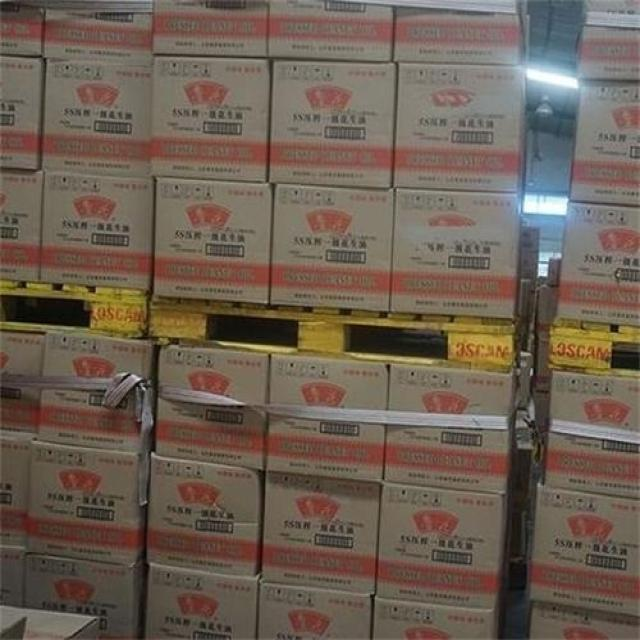box: (384, 365, 517, 497), (390, 189, 522, 319), (392, 64, 526, 192), (378, 483, 511, 610), (269, 60, 397, 191), (270, 183, 397, 314), (24, 441, 151, 567), (268, 355, 390, 482), (150, 57, 271, 184), (527, 483, 640, 616), (261, 472, 384, 594), (155, 179, 273, 304), (36, 332, 157, 453), (154, 345, 270, 470), (145, 456, 264, 576), (41, 168, 154, 291), (41, 55, 150, 176), (554, 202, 640, 327), (24, 552, 143, 640), (142, 562, 261, 640), (567, 85, 640, 206), (266, 0, 396, 62), (393, 7, 522, 65), (152, 0, 269, 58), (257, 582, 374, 640), (541, 432, 640, 498), (550, 369, 640, 433), (374, 598, 506, 640), (46, 9, 154, 58), (0, 169, 45, 281), (0, 55, 42, 170), (0, 327, 45, 434), (527, 605, 640, 640), (572, 26, 640, 81), (0, 432, 32, 547), (0, 608, 100, 640), (513, 421, 534, 511), (0, 541, 23, 605), (536, 287, 556, 337), (534, 337, 550, 391), (0, 609, 27, 640), (521, 227, 539, 273), (581, 0, 640, 14), (534, 391, 550, 429), (518, 279, 532, 318), (548, 258, 559, 284)
